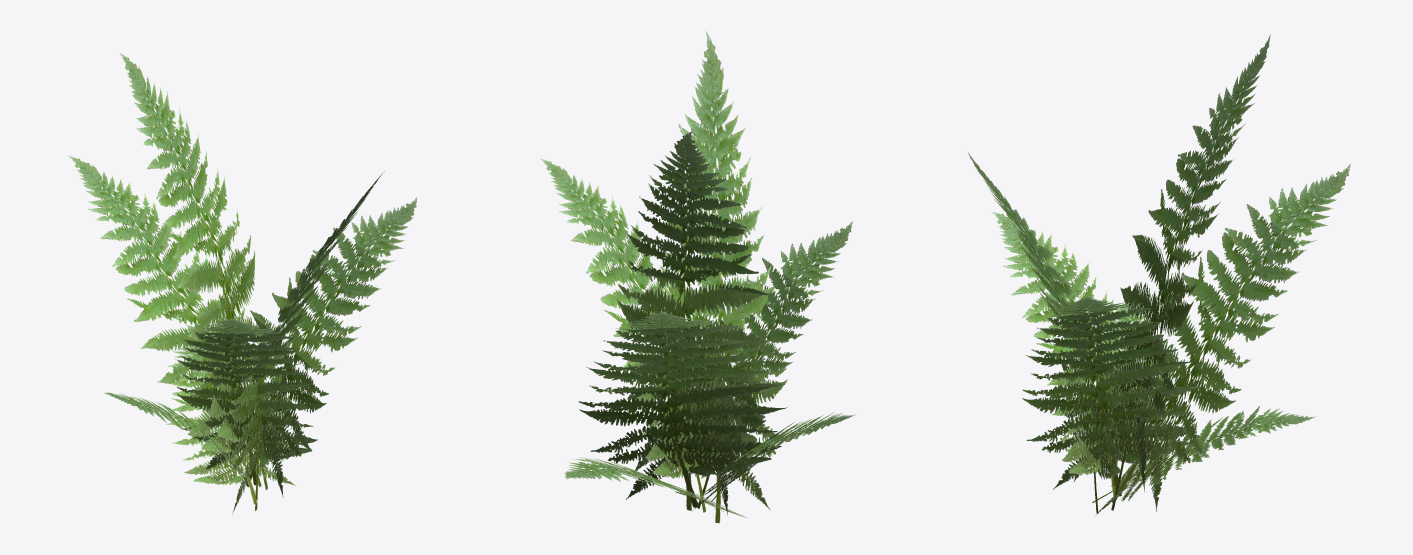
File: Fern3.fbx
3 renders of one model, left to right at view 1: azimuth 30°, elevation 25°; view 2: azimuth 150°, elevation 25°; view 3: azimuth 270°, elevation 25°, orthographic. The views are drawn at different scales.
Parts seen in each view (by area): view 1: Fern3; view 2: Fern3; view 3: Fern3.
Part boxes in pixels (left/top/right/bottom): Fern3: left=67, top=52, right=416, bottom=514; Fern3: left=539, top=30, right=856, bottom=523; Fern3: left=968, top=34, right=1350, bottom=516.
Bounding box in the file's own units: 145 × 195 × 175.
